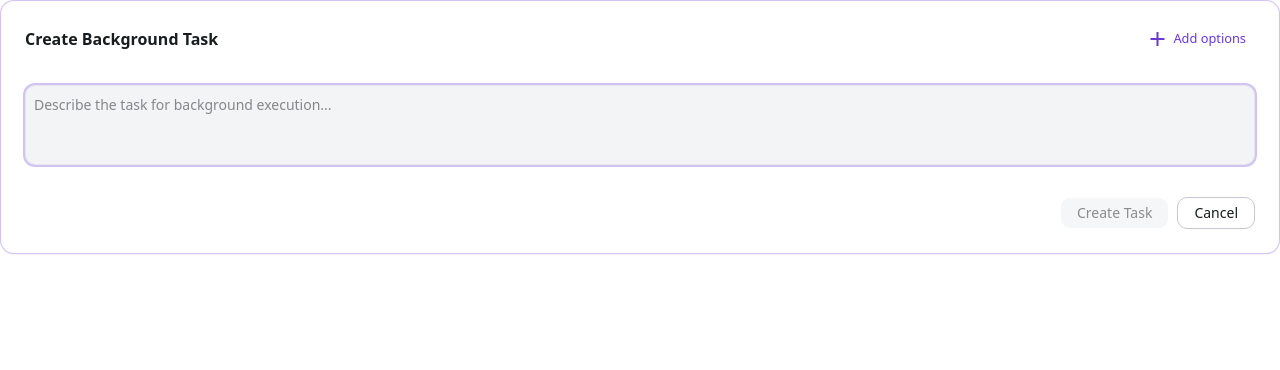
it: NewTaskForm › reveals assignee/priority fields on Add options click
This screenshot has width=1280, height=370.
Click the button "Add options": coordinates (1196, 39) top-left (1136, 25), bottom-right (1255, 53)
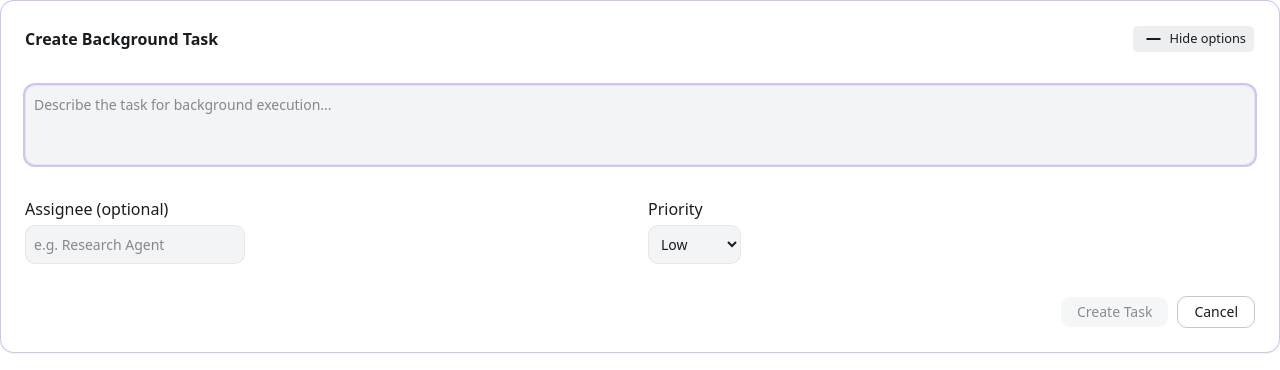
Expected: the field with placeholder "e.g. Research Agent" is shown, top-left (25, 225), bottom-right (245, 264)
Expected: the dropdown showing "Low" is shown, top-left (648, 225), bottom-right (741, 264)
